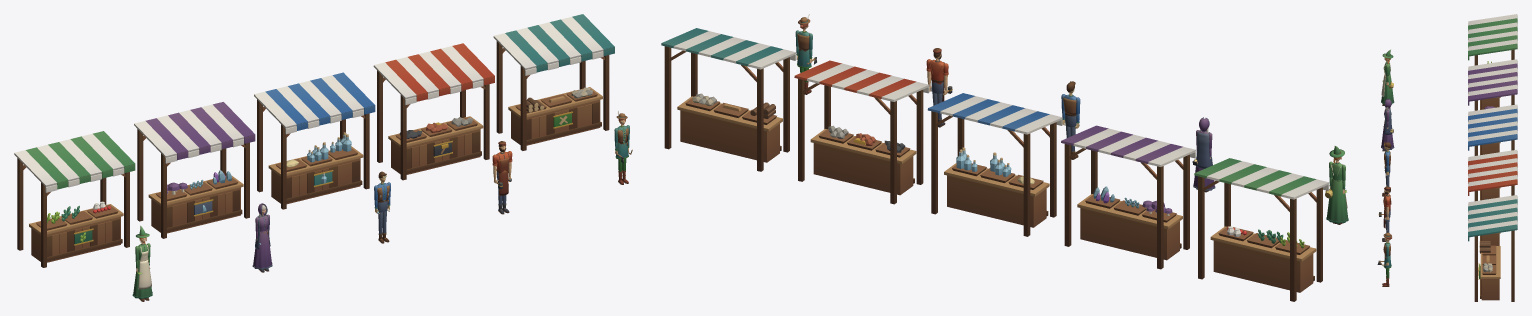
The model's file is arcane_market.glb.
3 renders of one model, left to right at view 1: azimuth 30°, elevation 25°; view 2: azimuth 150°, elevation 25°; view 3: azimuth 270°, elevation 25°, orthographic. The views are drawn at different scales.
Visible parts, largest first — view 1: stall_lio, stall_selma, stall_nyra, stall_esme, stall_aron, merchant_selma_lower, merchant_nyra_lower, merchant_aron_lower; view 2: stall_lio, stall_nyra, stall_esme, stall_aron, stall_selma, merchant_selma_lower, merchant_nyra_torso; view 3: stall_esme, stall_nyra, stall_lio, stall_selma, stall_aron, merchant_selma_lower, merchant_nyra_lower, merchant_nyra_torso, merchant_esme_lower, merchant_aron_lower.
Boxes of the visible parts, x1,y1,x2,y2 form: stall_lio: (254, 72, 375, 209); stall_selma: (14, 131, 135, 267); stall_nyra: (134, 102, 255, 238); stall_esme: (493, 14, 614, 150); stall_aron: (373, 43, 494, 180); merchant_selma_lower: (132, 260, 152, 301); merchant_nyra_lower: (252, 229, 272, 272); merchant_aron_lower: (497, 171, 509, 214); stall_lio: (927, 93, 1062, 236); stall_nyra: (1061, 125, 1195, 269); stall_esme: (661, 28, 795, 171); stall_aron: (794, 60, 929, 204); stall_selma: (1194, 158, 1329, 301); merchant_selma_lower: (1326, 178, 1348, 224); merchant_nyra_torso: (1196, 130, 1212, 168); stall_esme: (1468, 195, 1517, 301); stall_nyra: (1468, 59, 1517, 155); stall_lio: (1468, 104, 1517, 200); stall_selma: (1468, 14, 1517, 109); stall_aron: (1468, 149, 1517, 253); merchant_selma_lower: (1381, 74, 1394, 105); merchant_nyra_lower: (1381, 120, 1394, 151); merchant_nyra_torso: (1384, 108, 1392, 134); merchant_esme_lower: (1382, 255, 1391, 286); merchant_aron_lower: (1382, 210, 1390, 241).
Size of the model in its own units: 56.96 by 9.14 by 15.71.
Materials: 1 (1 with a texture image).
